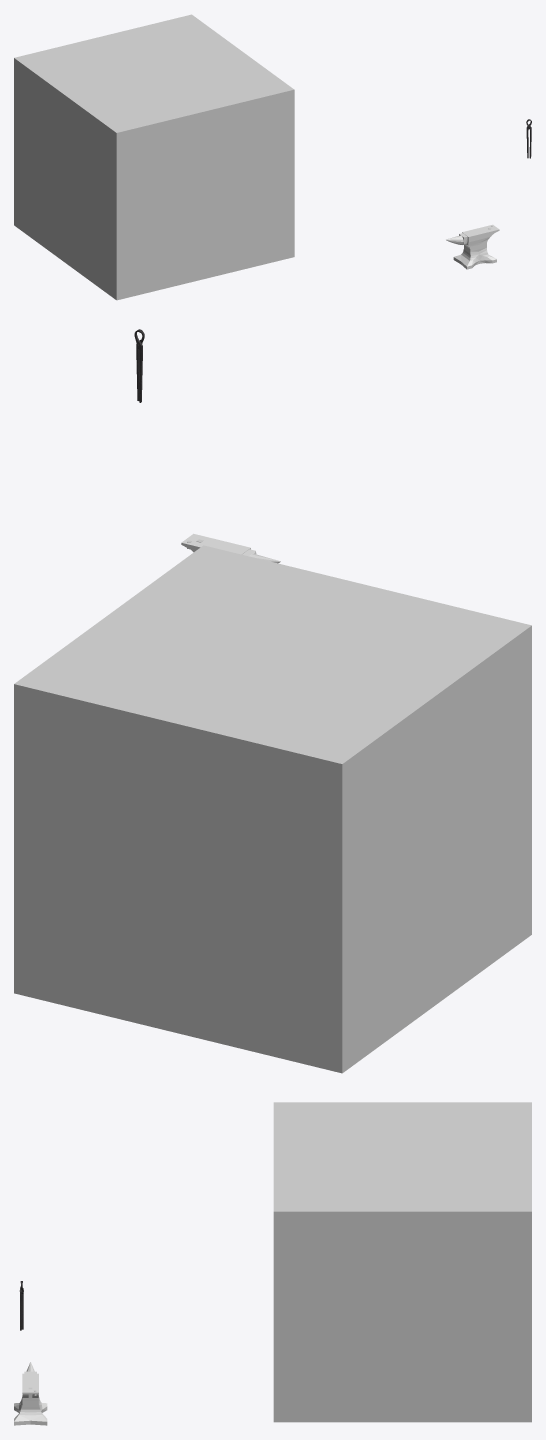
The model's file is tong.dae.
The picture shows the model from 3 angles, top to bottom: view 1: azimuth 30°, elevation 25°; view 2: azimuth 150°, elevation 25°; view 3: azimuth 270°, elevation 25°; orthographic projection. The views are drawn at different scales.
Parts seen in each view (by area): view 1: Cube_004, Cube_002; view 2: Cube_004, Cube_002; view 3: Cube_004, Cube_002.
Boxes of the visible parts, box(x1,y1,x2,y2) form: Cube_004: box(14, 14, 294, 300); Cube_002: box(446, 224, 499, 269); Cube_004: box(14, 545, 531, 1073); Cube_002: box(181, 533, 280, 563); Cube_004: box(273, 1102, 531, 1422); Cube_002: box(14, 1362, 47, 1425).
Bounding box in the file's own units: 3.54 × 4.01 × 1.91.
1 material, 1 textured.
